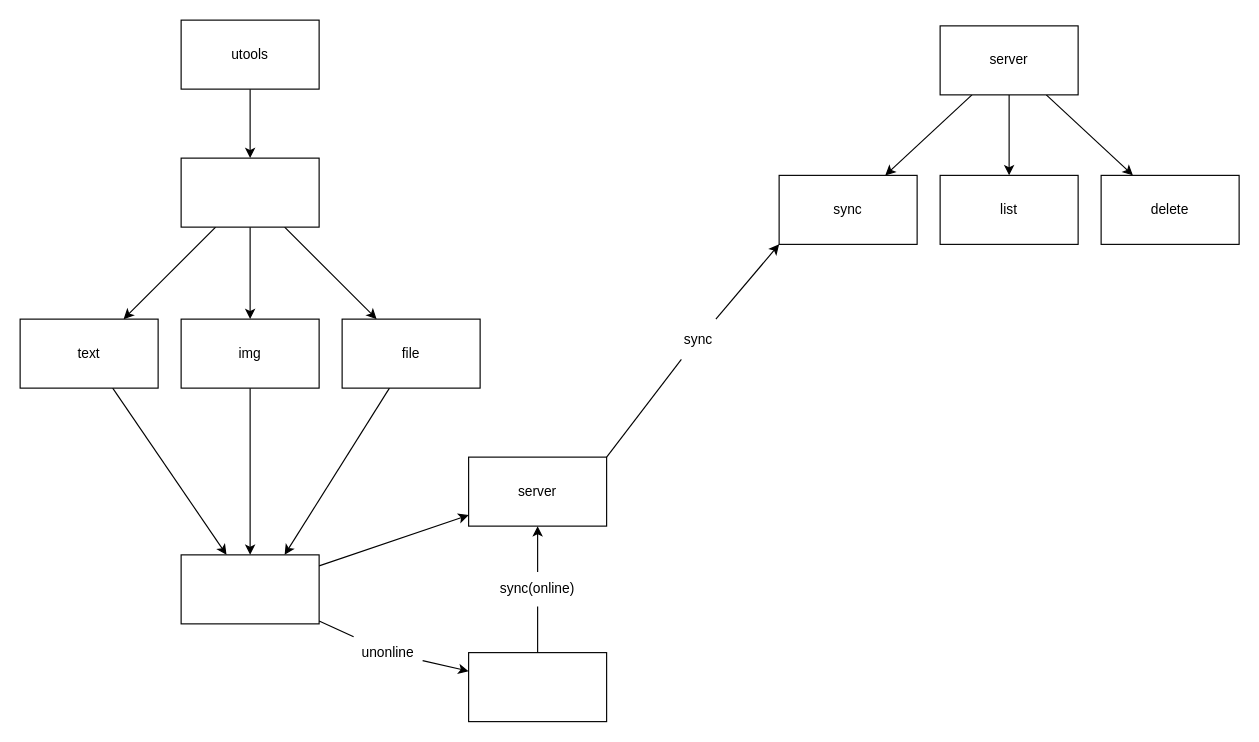
This 1259x742 diagram has some shape labels left out. The centre of each missing label's shape, as x and y in pixels:
"local" belongs at pixel 537 686.
"upload" belongs at pixel 249 589.
"超级面板" belongs at pixel 249 192.
